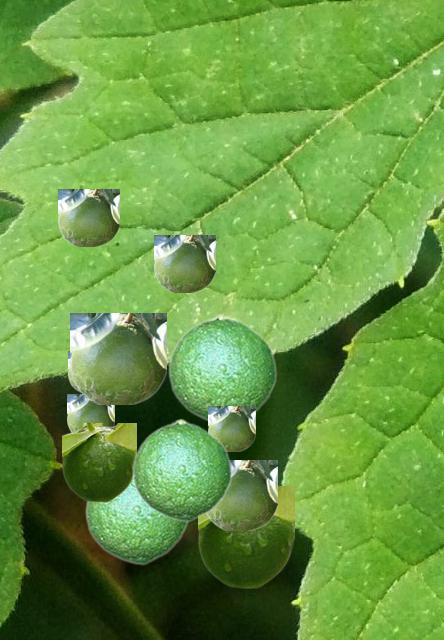dalandan: (167, 313, 276, 422), (131, 418, 231, 521), (198, 486, 293, 587), (70, 313, 165, 403), (84, 482, 188, 564), (62, 423, 135, 501), (206, 460, 276, 529), (58, 189, 118, 245), (154, 235, 214, 291), (208, 406, 254, 450), (67, 394, 113, 431), (68, 351, 78, 391)
